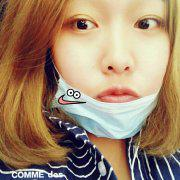WRONG: (46, 8, 173, 135)
